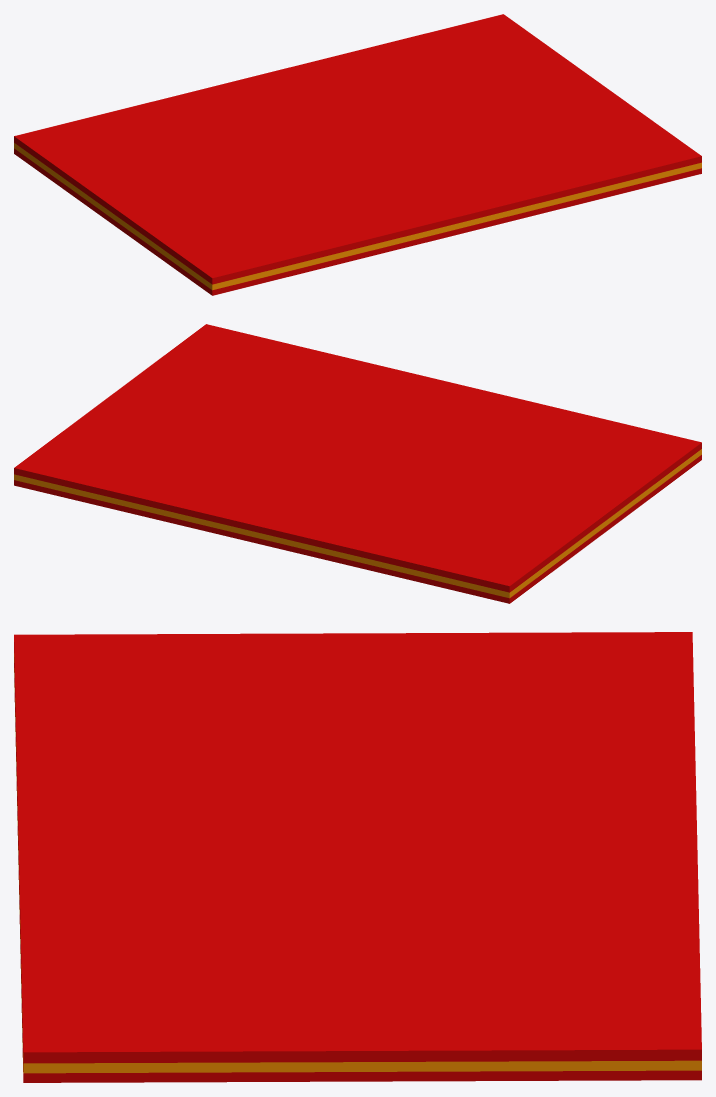
The model's file is light.004.fbx.
3 renders of one model, top to bottom at view 1: azimuth 30°, elevation 25°; view 2: azimuth 150°, elevation 25°; view 3: azimuth 270°, elevation 25°, orthographic. The views are drawn at different scales.
Visible parts, largest first — view 1: light.004; view 2: light.004; view 3: light.004.
Part boxes in pixels (x1,y1,x2,y2): light.004: (14, 14, 701, 295); light.004: (14, 324, 701, 603); light.004: (14, 632, 701, 1082).
Size of the model in its own units: 1543 by 2230 by 75.72.
